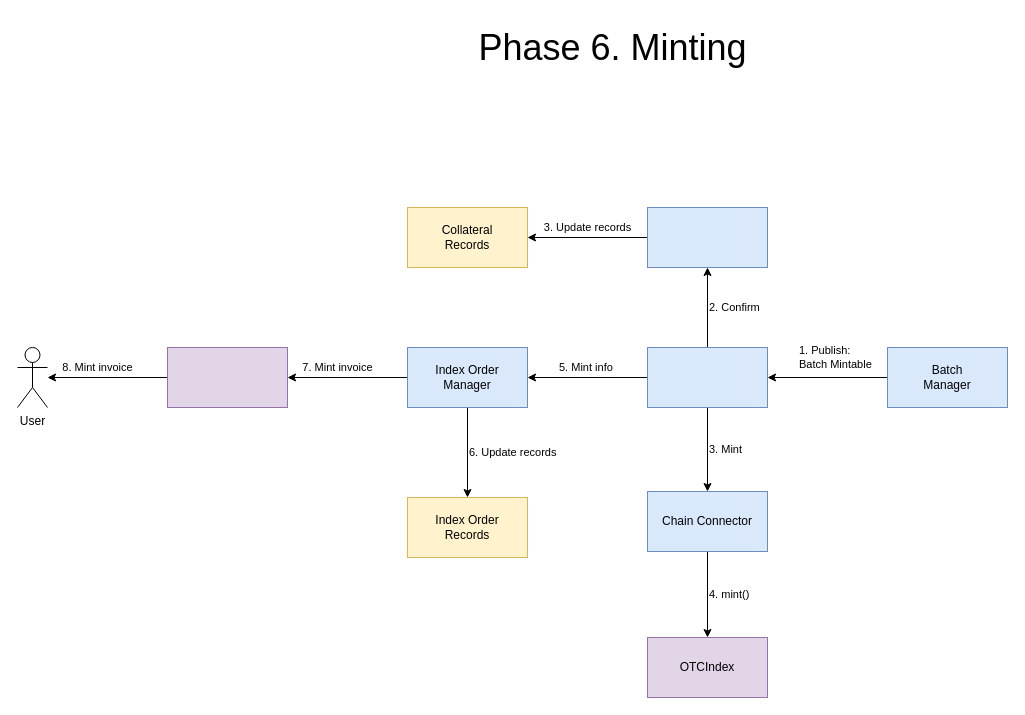
The diagram is 1025 pixels wide and 715 high, and some of its shapes have lost their labels. The centre of each missing label's shape, as x and y in pixels:
"Collatetral Manager" goes at pixel 707 237.
"FIX JSON" goes at pixel 227 377.
"Solver" goes at pixel 707 377.
